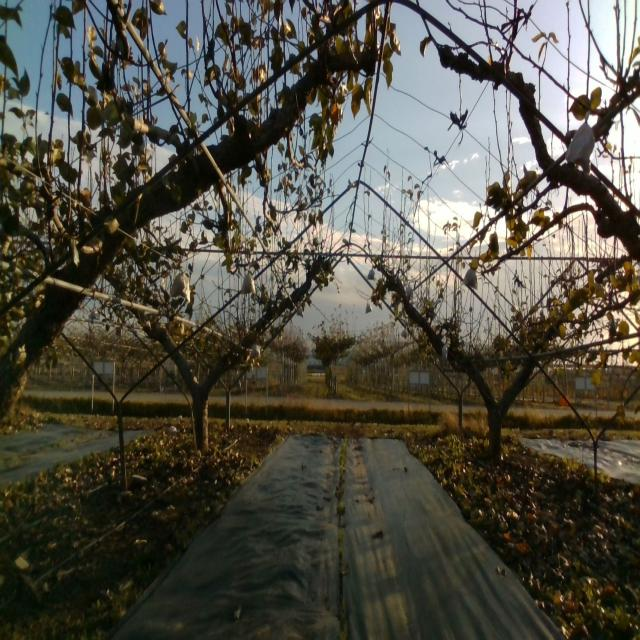pearbags: (564, 112, 595, 172), (170, 266, 190, 302), (240, 268, 256, 295), (463, 268, 478, 289)
